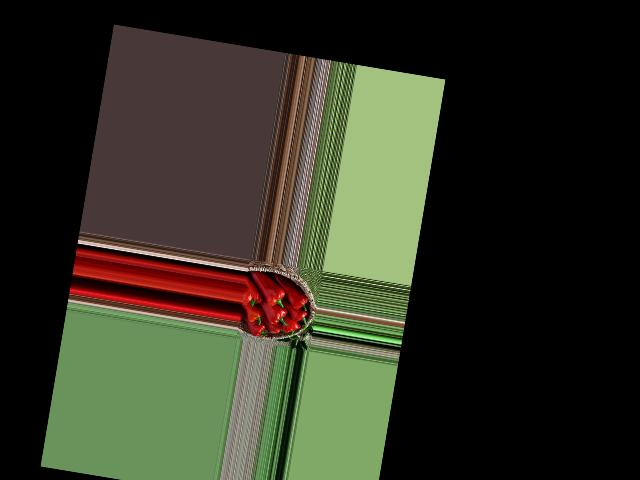bell_pepper: (287, 305, 311, 325)
